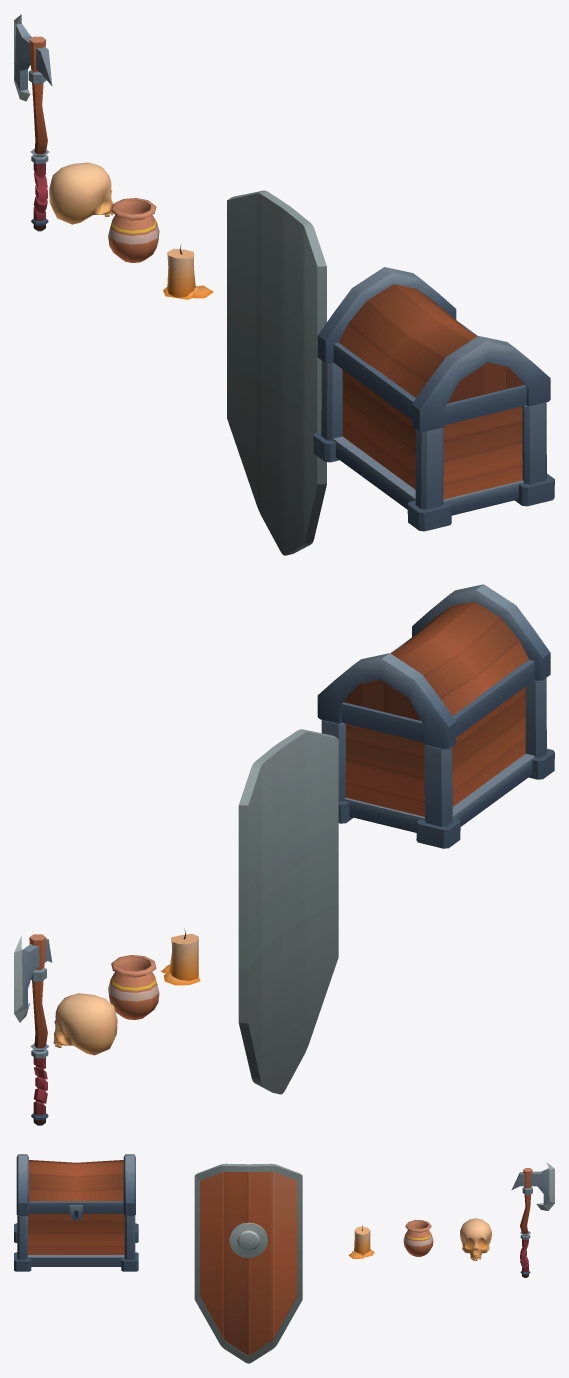
The model's file is chest.glb.
3 views of the same model, one above another, from view 1: azimuth 30°, elevation 25°; view 2: azimuth 150°, elevation 25°; view 3: azimuth 270°, elevation 25° (orthographic). The views are drawn at different scales.
Visible parts, largest first — view 1: Long_shield_3, Treasure_6, Treasure_lid_5, Axe_small_0, Skull_4, Jar_2, Candle_1; view 2: Long_shield_3, Treasure_lid_5, Treasure_6, Axe_small_0, Skull_4, Jar_2, Candle_1; view 3: Long_shield_3, Treasure_6, Treasure_lid_5, Axe_small_0, Skull_4, Jar_2, Candle_1.
Boxes of the visible parts, x1,y1,x2,y2 form: Long_shield_3: (227,190,326,555); Treasure_6: (313,360,554,531); Treasure_lid_5: (317,267,550,431); Axe_small_0: (14,14,52,231); Skull_4: (49,162,113,224); Jar_2: (108,198,159,262); Candle_1: (163,244,213,299); Long_shield_3: (238,729,338,1094); Treasure_lid_5: (317,584,550,749); Treasure_6: (321,678,554,848); Axe_small_0: (14,934,52,1125); Skull_4: (53,993,117,1055); Jar_2: (108,955,159,1019); Candle_1: (161,930,200,985); Long_shield_3: (194,1163,302,1363); Treasure_6: (14,1213,138,1271); Treasure_lid_5: (16,1154,135,1219); Axe_small_0: (511,1162,554,1277); Skull_4: (460,1218,491,1260); Jar_2: (403,1220,433,1256); Candle_1: (348,1225,374,1258).
Size of the model in its own units: 0.4853 by 1.23 by 2.93.
Materials: 1 (1 with a texture image).
